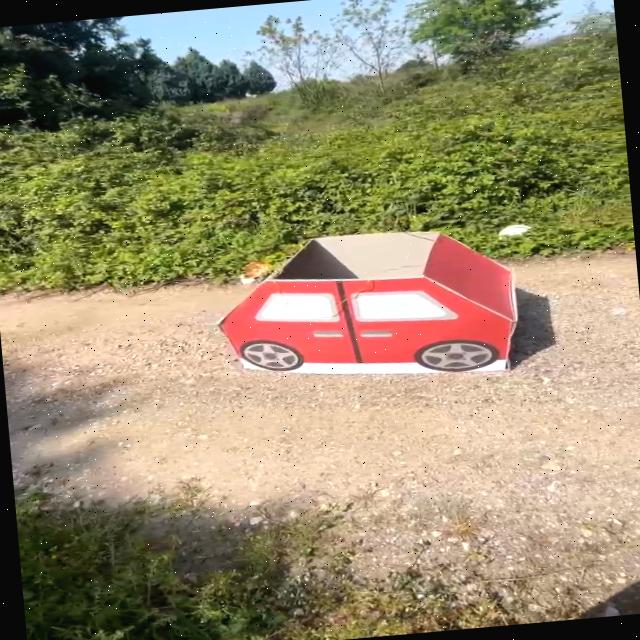red_car: (188, 212, 568, 404)
